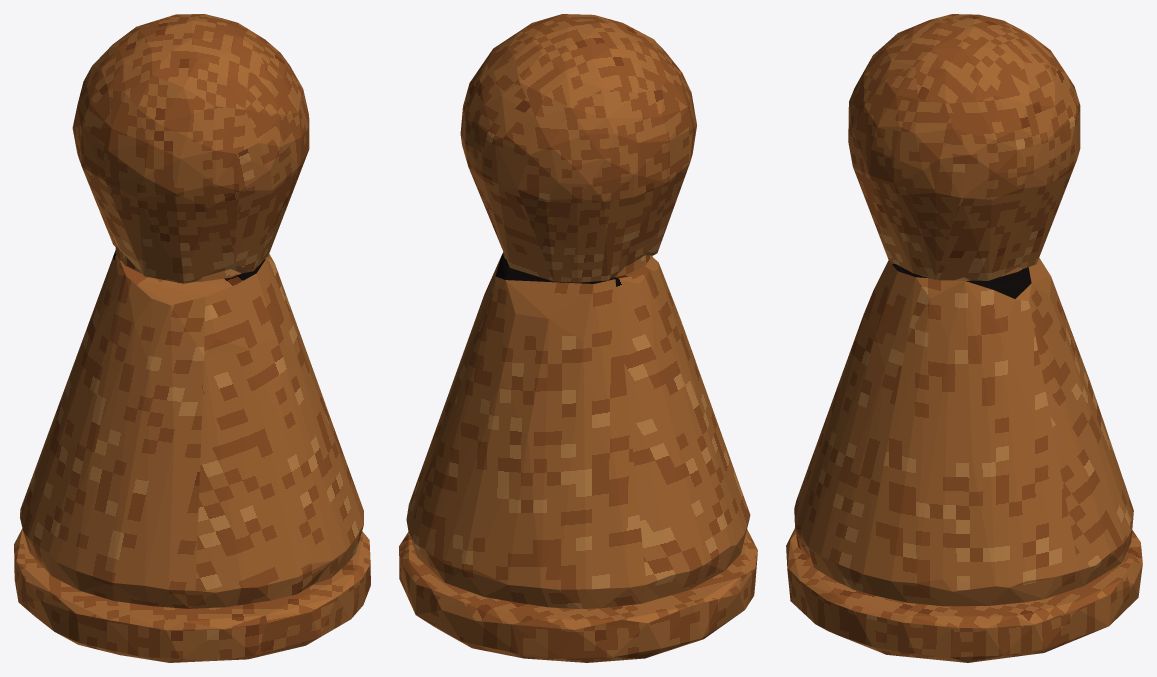
The model's file is chess_pawn.glb.
The picture shows the model from 3 angles, left to right: view 1: azimuth 30°, elevation 25°; view 2: azimuth 150°, elevation 25°; view 3: azimuth 270°, elevation 25°; orthographic projection.
Parts seen in each view (by area): view 1: Body, Head, Base; view 2: Body, Head, Base; view 3: Body, Head, Base.
Part boxes in pixels (<box>): Body: <box>20,250,363,608</box>; Head: <box>72,14,309,283</box>; Base: <box>14,528,370,662</box>; Body: <box>406,252,750,609</box>; Head: <box>460,14,696,282</box>; Base: <box>399,529,757,662</box>; Body: <box>794,258,1133,606</box>; Head: <box>848,14,1080,281</box>; Base: <box>786,528,1142,662</box>.
Bounding box in the file's own units: 0.8618 × 1.5 × 0.8584.
Materials: 4 (3 with a texture image).
